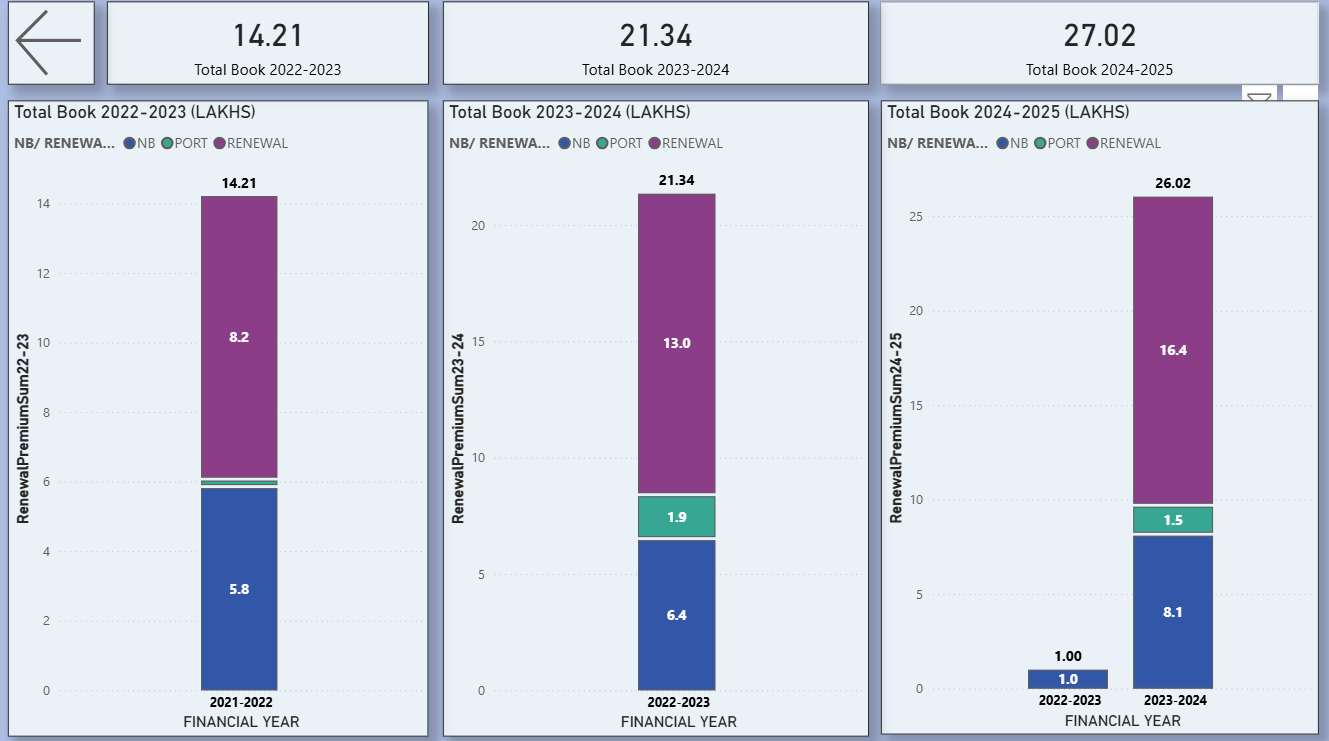

The dashboard page shown, as its layout file describes it:
{"tool":"powerbi","page":{"name":"Previous Years  Total Book","canvas":[1280,720],"ordinal":5},"visuals":[{"type":"card","fields":{"Values":["Master Table.RenewalPremiumSum24-25"]},"box":[848.5,6.5,417.8,79.3],"z":0},{"type":"columnChart","title":"Total Book 2024-2025 (LAKHS)","fields":{"Y":["Master Table.RenewalPremiumSum24-25"],"Category":["Master Table.FINANCIAL YEAR"],"Series":["Master Table.NB/ RENEWAL/PORT"]},"box":[848.5,102,417.8,605.6],"z":1000},{"type":"card","fields":{"Values":["Master Table.RenewalPremiumSum23-24"]},"box":[429.1,6.5,406.4,79.3],"z":2000},{"type":"columnChart","title":"Total Book 2023-2024 (LAKHS)","fields":{"Category":["Master Table.FINANCIAL YEAR"],"Series":["Master Table.NB/ RENEWAL/PORT"],"Y":["Master Table.RenewalPremiumSum23-24"]},"box":[429.1,102,406.4,607.2],"z":3000},{"type":"columnChart","title":"Total Book 2022-2023 (LAKHS)","fields":{"Category":["Master Table.FINANCIAL YEAR"],"Series":["Master Table.NB/ RENEWAL/PORT"],"Y":["Master Table.RenewalPremiumSum22-23"]},"box":[14.6,102,401.6,607.2],"z":5000},{"type":"card","fields":{"Values":["Master Table.RenewalPremiumSum22-23"]},"box":[108.5,6.5,307.7,79.3],"z":6000},{"type":"actionButton","box":[14.6,6.5,82.6,79.3],"z":7000}]}

Visuals, with their boxes in screenshot pixels (x1, y1, x2, y2), scaled from the page's 1280x720 canvas onto the 1329x741 screenshot:
card - Master Table.RenewalPremiumSum24-25: x1=881, y1=7, x2=1315, y2=88
"Total Book 2024-2025 (LAKHS)" columnChart: x1=881, y1=105, x2=1315, y2=728
card - Master Table.RenewalPremiumSum23-24: x1=446, y1=7, x2=867, y2=88
"Total Book 2023-2024 (LAKHS)" columnChart: x1=446, y1=105, x2=867, y2=730
"Total Book 2022-2023 (LAKHS)" columnChart: x1=15, y1=105, x2=432, y2=730
card - Master Table.RenewalPremiumSum22-23: x1=113, y1=7, x2=432, y2=88
actionButton: x1=15, y1=7, x2=101, y2=88
